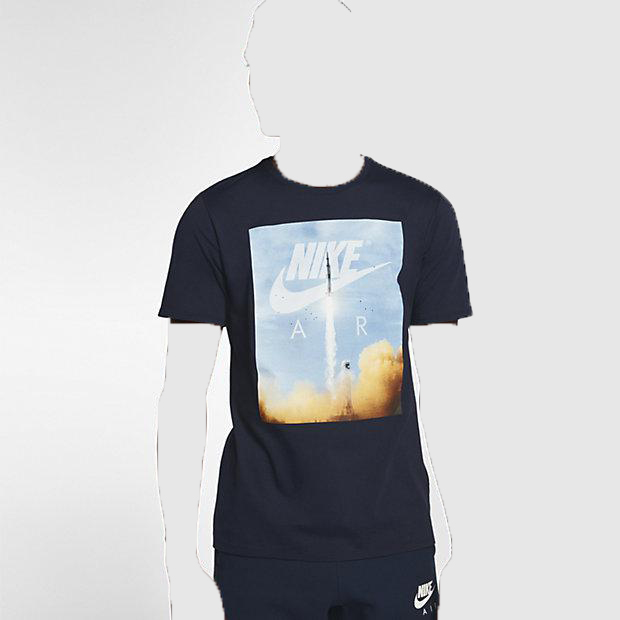teeshirt: (151, 154, 490, 564)
